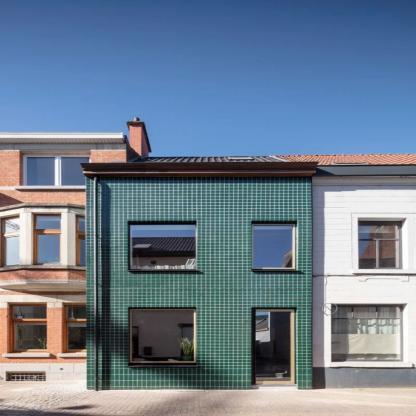Building Outline: (80, 157, 319, 389)
Cornice: (80, 162, 319, 173)
Door: (255, 309, 296, 385)
Facade: (79, 157, 321, 389)
Floor Slab: (86, 289, 311, 295)
Roof: (117, 157, 298, 166)
Window: (131, 309, 196, 363), (129, 224, 196, 270), (252, 224, 295, 269), (229, 157, 252, 159)
